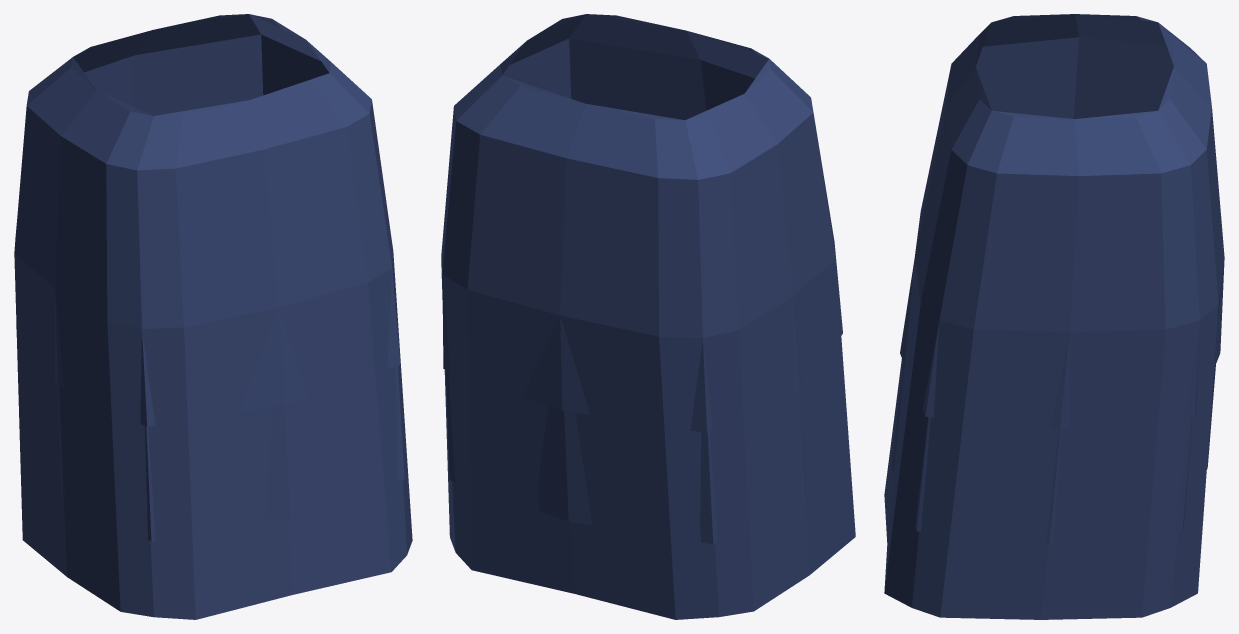
Rendered from Skirt.glb.
3 renders of one model, left to right at view 1: azimuth 30°, elevation 25°; view 2: azimuth 150°, elevation 25°; view 3: azimuth 270°, elevation 25°, orthographic. The views are drawn at different scales.
Visible parts, largest first — view 1: Skirt_Pleated, Skirt_ALine, Skirt_Mini; view 2: Skirt_Pleated, Skirt_ALine, Skirt_Mini; view 3: Skirt_Pleated, Skirt_ALine, Skirt_Mini.
Boxes of the visible parts, x1,y1,x2,y2 form: Skirt_Pleated: (14,14,412,619); Skirt_ALine: (58,14,404,541); Skirt_Mini: (16,269,400,426); Skirt_Pleated: (441,14,855,619); Skirt_ALine: (445,14,806,544); Skirt_Mini: (442,245,842,432); Skirt_Pleated: (884,14,1224,619); Skirt_ALine: (891,14,1215,543); Skirt_Mini: (900,259,1224,428).
Size of the model in its own units: 1.7 by 2.5 by 1.61.
